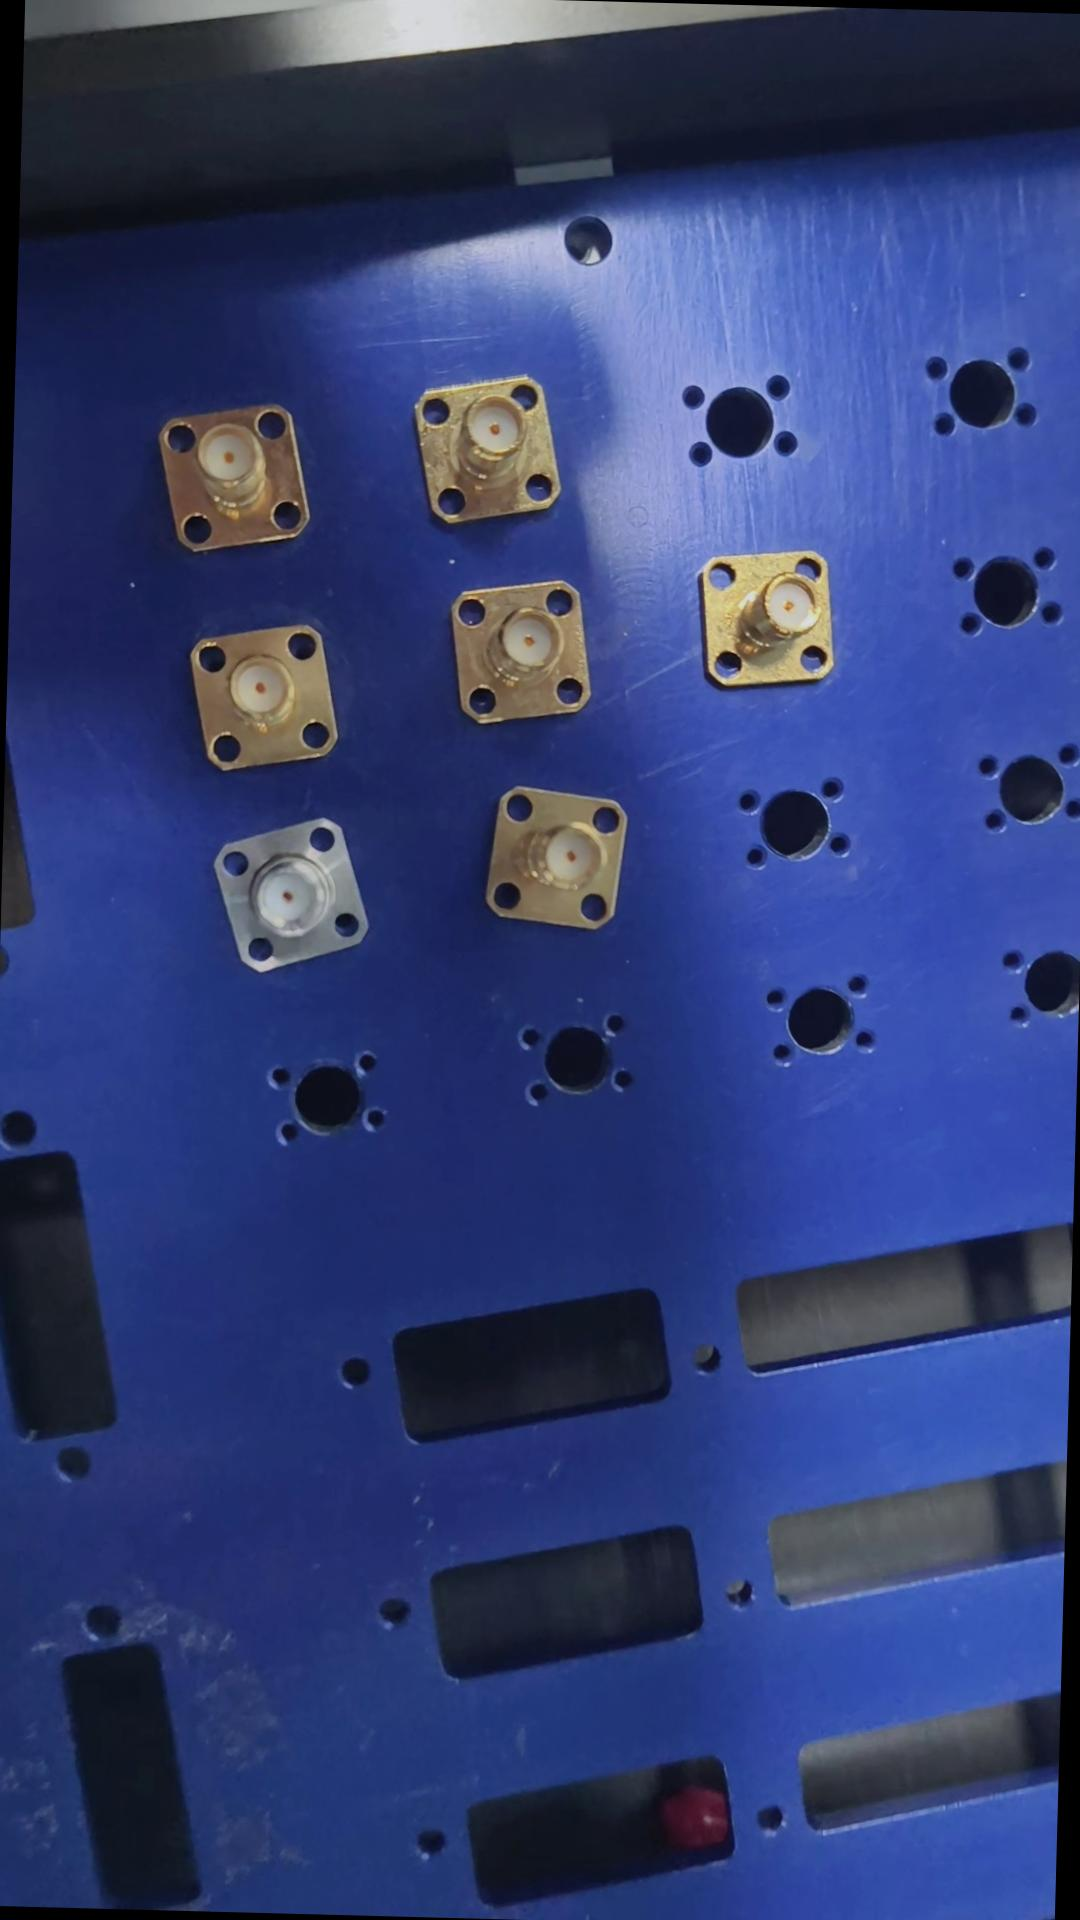SMA: (173, 618, 353, 774), (212, 808, 382, 973), (483, 782, 645, 940), (156, 409, 323, 554), (447, 574, 601, 729), (418, 376, 574, 527), (698, 541, 843, 702)
